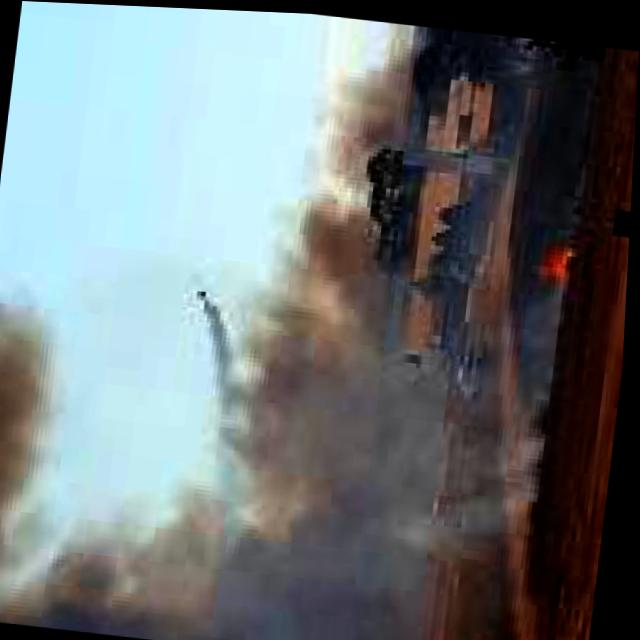smoke: (0, 238, 484, 640)
